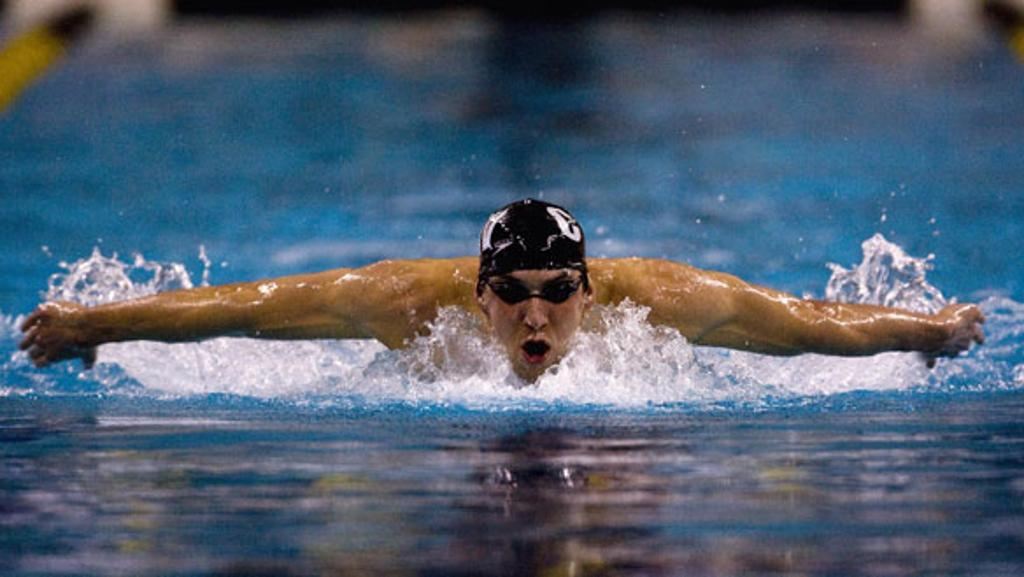face: (490, 242, 584, 374)
